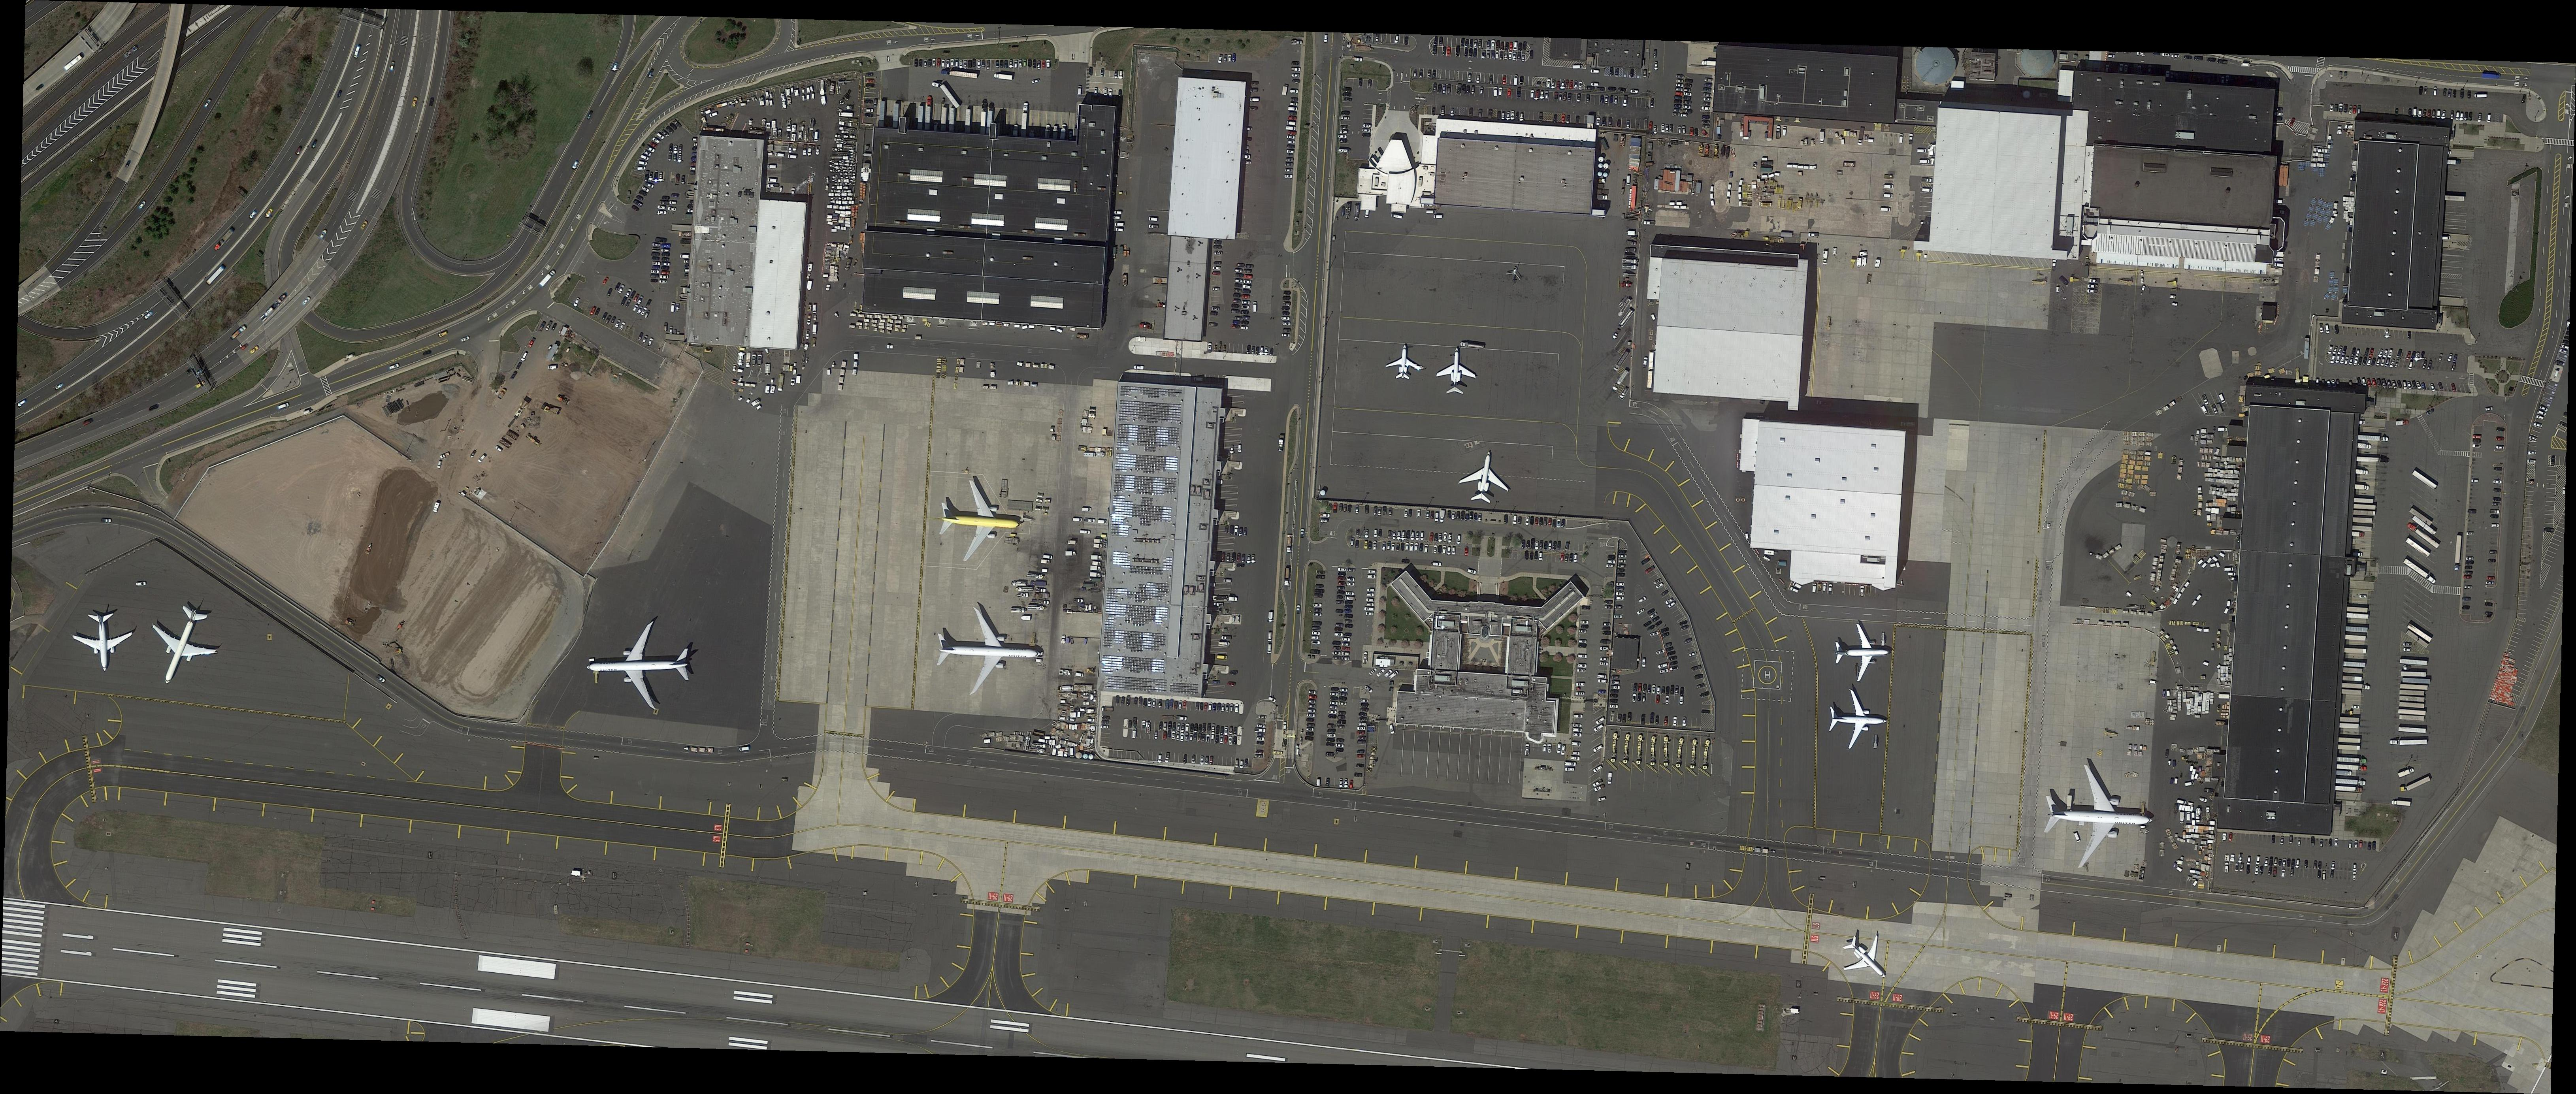plane: (2039, 759, 2159, 874), (126, 591, 237, 701), (933, 603, 1045, 705), (585, 614, 693, 711), (933, 476, 1030, 568), (1828, 923, 1907, 995), (69, 609, 135, 675), (1825, 687, 1889, 754), (1452, 445, 1520, 509), (1833, 623, 1894, 683), (1434, 345, 1480, 398), (1383, 342, 1428, 384)
